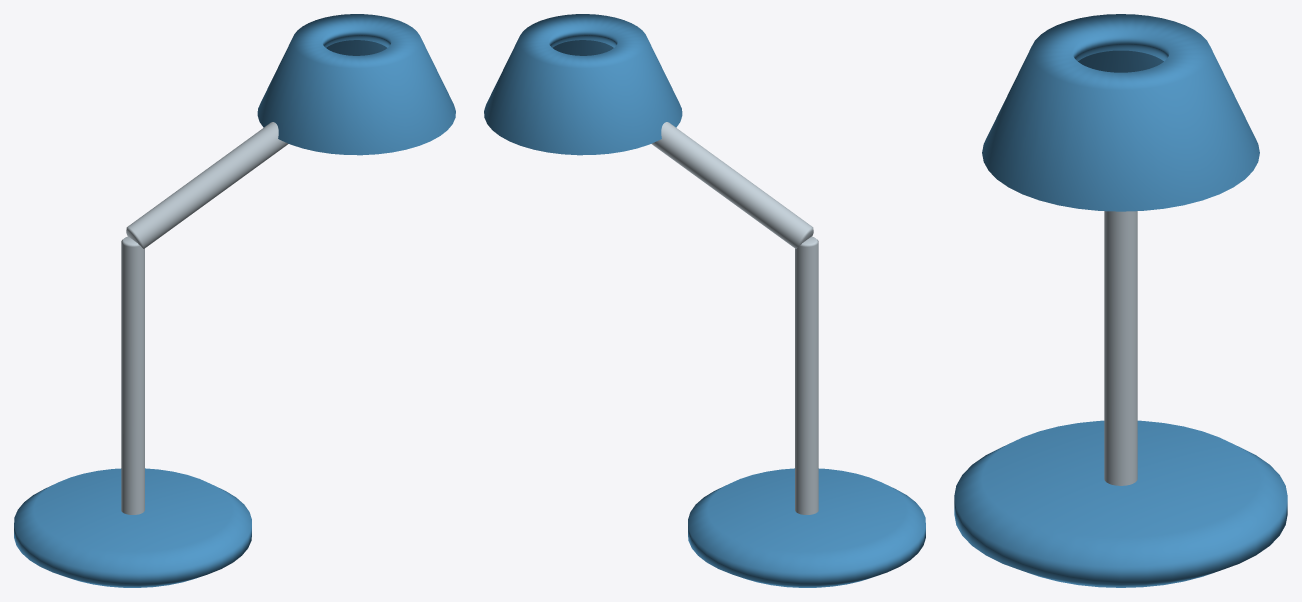
File: desk_lamp.glb
3 renders of one model, left to right at view 1: azimuth 30°, elevation 25°; view 2: azimuth 150°, elevation 25°; view 3: azimuth 270°, elevation 25°, orthographic. The views are drawn at different scales.
Visible parts, largest first — view 1: Lamp_Base, Lamp_Shade, Lamp_Stem, Lamp_Arm; view 2: Lamp_Base, Lamp_Shade, Lamp_Stem, Lamp_Arm; view 3: Lamp_Base, Lamp_Shade, Lamp_Stem.
Boxes of the visible parts, x1,y1,x2,y2 form: Lamp_Base: (14, 468, 251, 587); Lamp_Shade: (257, 14, 455, 155); Lamp_Stem: (121, 236, 144, 514); Lamp_Arm: (126, 122, 288, 248); Lamp_Base: (688, 468, 925, 587); Lamp_Shade: (484, 14, 682, 155); Lamp_Stem: (795, 236, 818, 514); Lamp_Arm: (651, 122, 813, 248); Lamp_Base: (954, 420, 1287, 587); Lamp_Shade: (982, 14, 1259, 211); Lamp_Stem: (1104, 211, 1137, 485).
Size of the model in its own units: 0.48 by 0.5 by 0.24.
